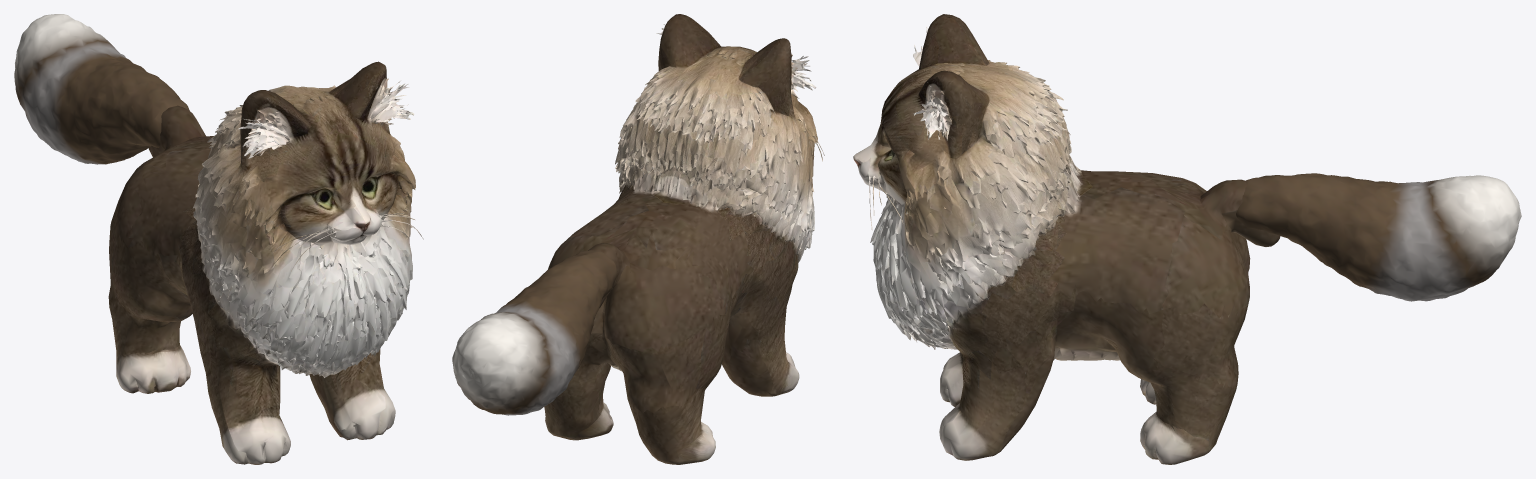
File: meshy-norwegian.glb
The picture shows the model from 3 angles, left to right: view 1: azimuth 30°, elevation 25°; view 2: azimuth 150°, elevation 25°; view 3: azimuth 270°, elevation 25°; orthographic projection. The views are drawn at different scales.
Parts seen in each view (by area): view 1: Mesh_0, tail.001; view 2: Mesh_0, tail.001; view 3: Mesh_0, tail.001.
Boxes of the visible parts, x1=… form: Mesh_0: x1=108, y1=61, x2=423, y2=464; tail.001: x1=14, y1=14, x2=189, y2=164; Mesh_0: x1=544, y1=14, x2=824, y2=464; tail.001: x1=452, y1=250, x2=617, y2=415; Mesh_0: x1=853, y1=14, x2=1280, y2=464; tail.001: x1=1236, y1=173, x2=1521, y2=301.
Bounding box in the file's own units: 0.9893 × 1.86 × 2.95.
Materials: 2 (1 with a texture image).
